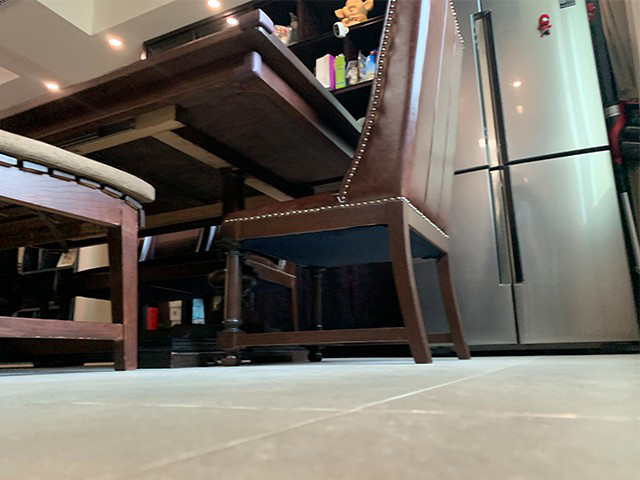stool: (213, 1, 471, 367), (1, 128, 155, 373)
